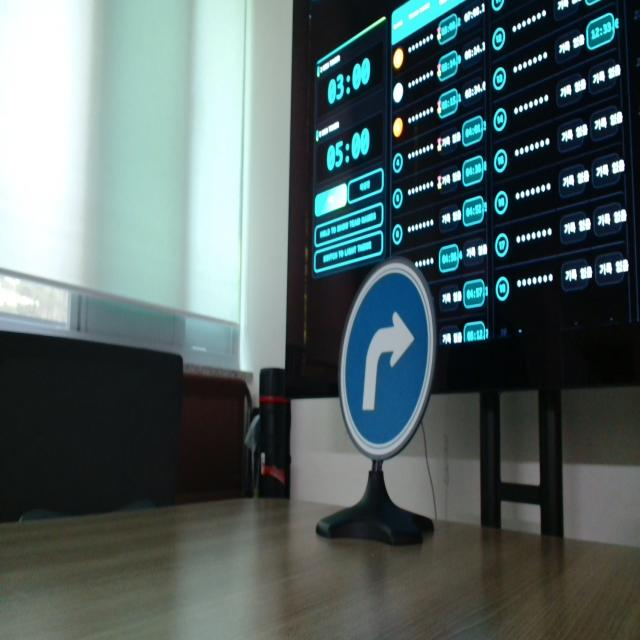right_dierection: (335, 252, 437, 459)
